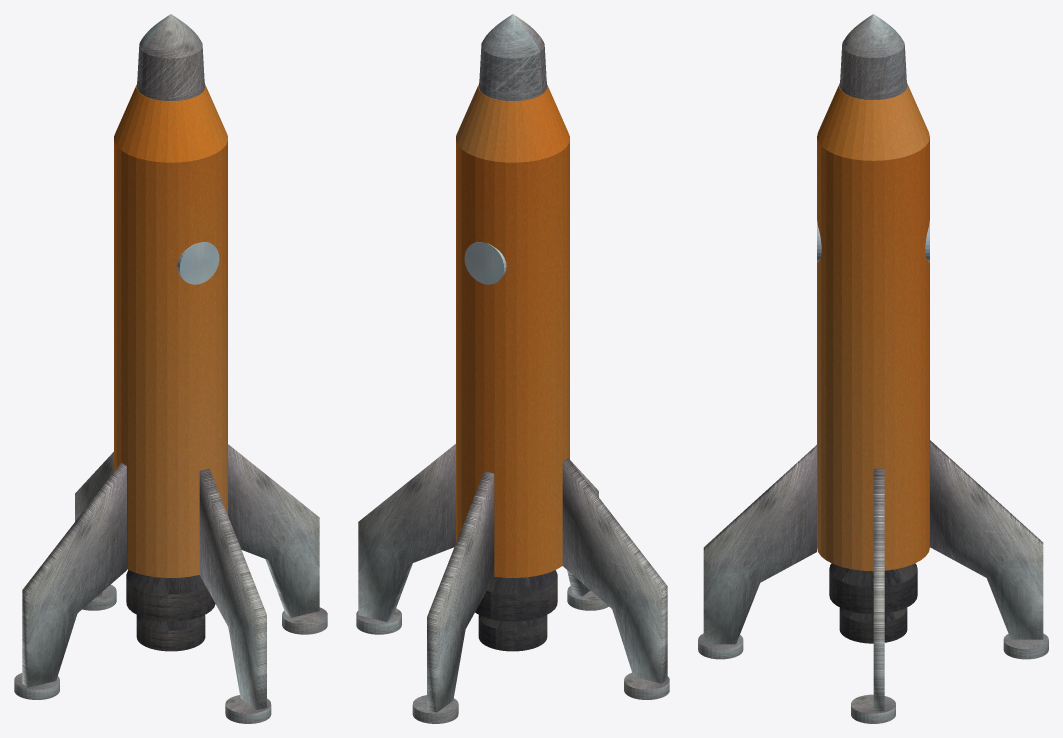
File: coheteEspacial.fbx
The picture shows the model from 3 angles, left to right: view 1: azimuth 30°, elevation 25°; view 2: azimuth 150°, elevation 25°; view 3: azimuth 270°, elevation 25°; orthographic projection.
Visible parts, largest first — view 1: Cohete; view 2: Cohete; view 3: Cohete.
Part boxes in pixels (bbox=[...]): Cohete: bbox=[14, 14, 327, 723]; Cohete: bbox=[356, 14, 669, 723]; Cohete: bbox=[698, 14, 1048, 723].
Bounding box in the file's own units: 961 × 1922 × 961.
4 materials, 4 textured.
